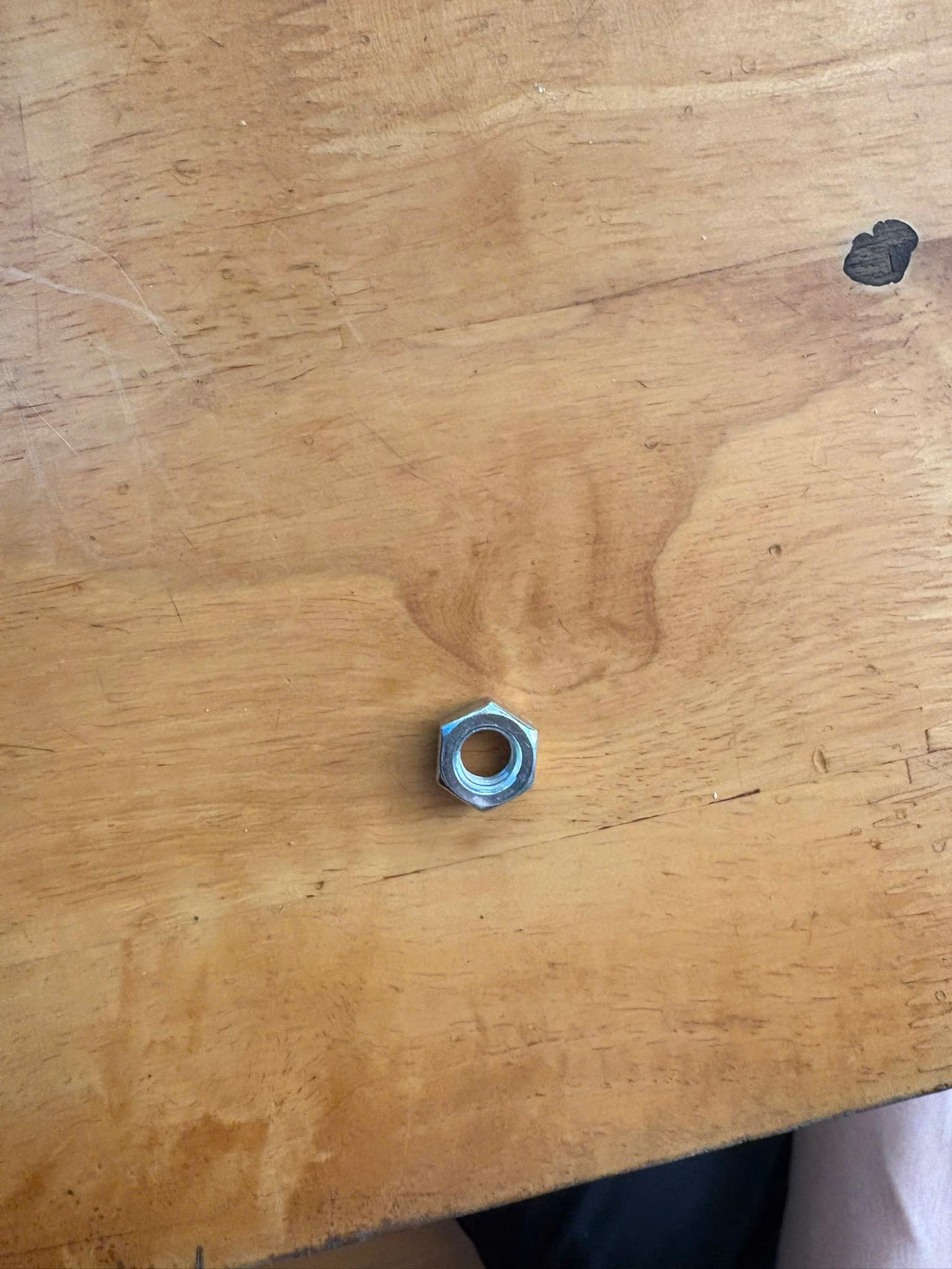nut: (412, 692, 565, 837)
